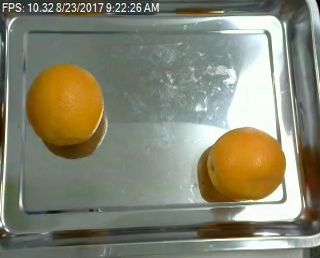Orange: (26, 63, 104, 148), (206, 124, 288, 200)
